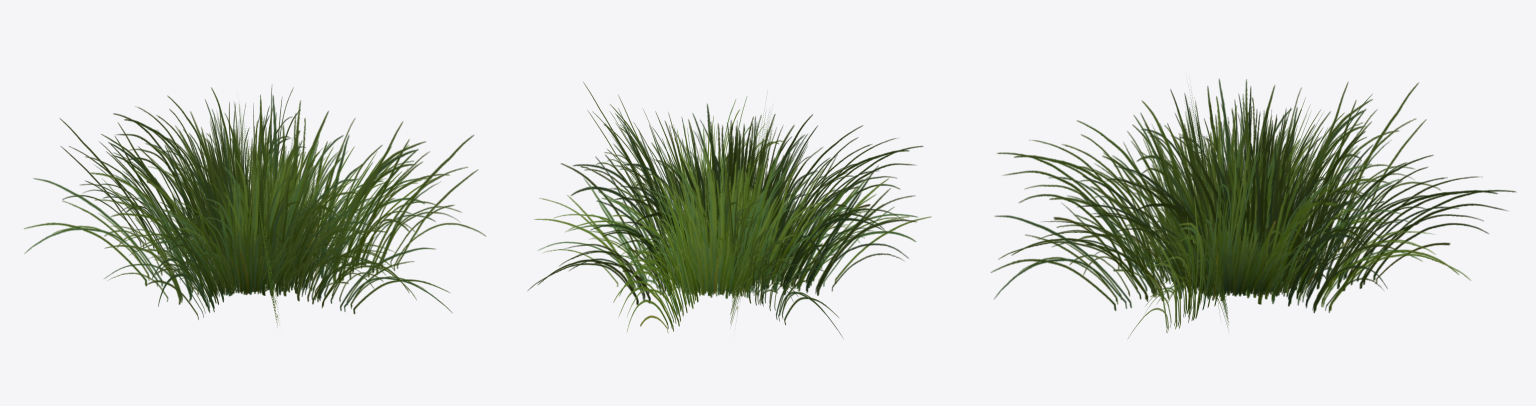
The model's file is large_3.gltf.
3 renders of one model, left to right at view 1: azimuth 30°, elevation 25°; view 2: azimuth 150°, elevation 25°; view 3: azimuth 270°, elevation 25°, orthographic. The views are drawn at different scales.
Parts seen in each view (by area): view 1: Grass large 3_GrassAtlas_0; view 2: Grass large 3_GrassAtlas_0; view 3: Grass large 3_GrassAtlas_0.
Part boxes in pixels (bbox=[...]): Grass large 3_GrassAtlas_0: bbox=[24, 85, 485, 325]; Grass large 3_GrassAtlas_0: bbox=[527, 82, 931, 338]; Grass large 3_GrassAtlas_0: bbox=[991, 78, 1515, 338].
Bounding box in the file's own units: 0.7803 × 0.3954 × 0.9197.
Materials: 1 (1 with a texture image).
